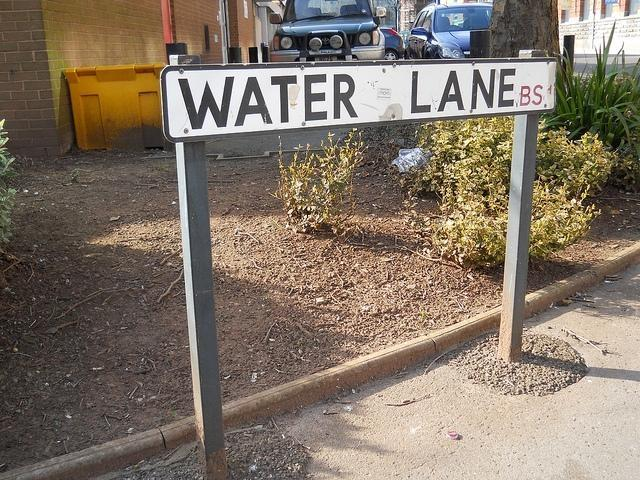car: (269, 0, 386, 63), (404, 4, 494, 60), (380, 27, 404, 60)
